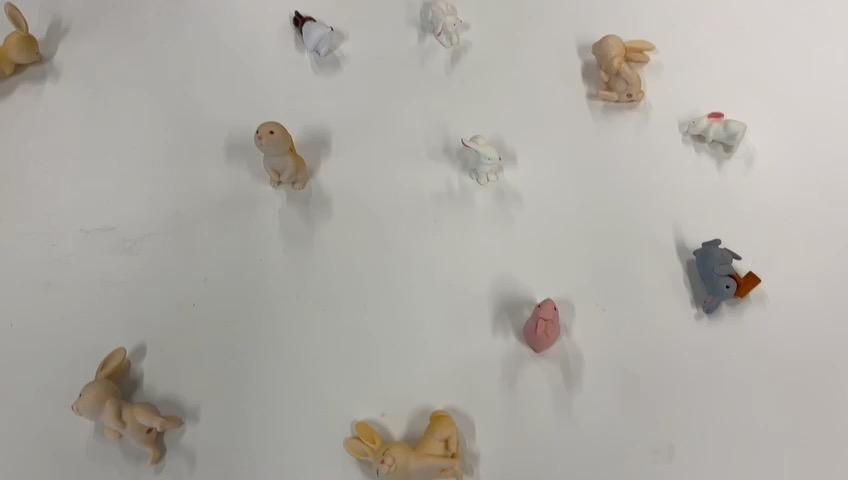pet: (68, 338, 193, 465), (336, 404, 477, 480), (515, 284, 591, 389), (576, 22, 659, 107), (242, 112, 316, 201), (398, 0, 477, 72), (685, 232, 750, 313), (0, 0, 53, 92), (285, 5, 356, 67), (448, 130, 515, 194), (676, 97, 731, 159)
